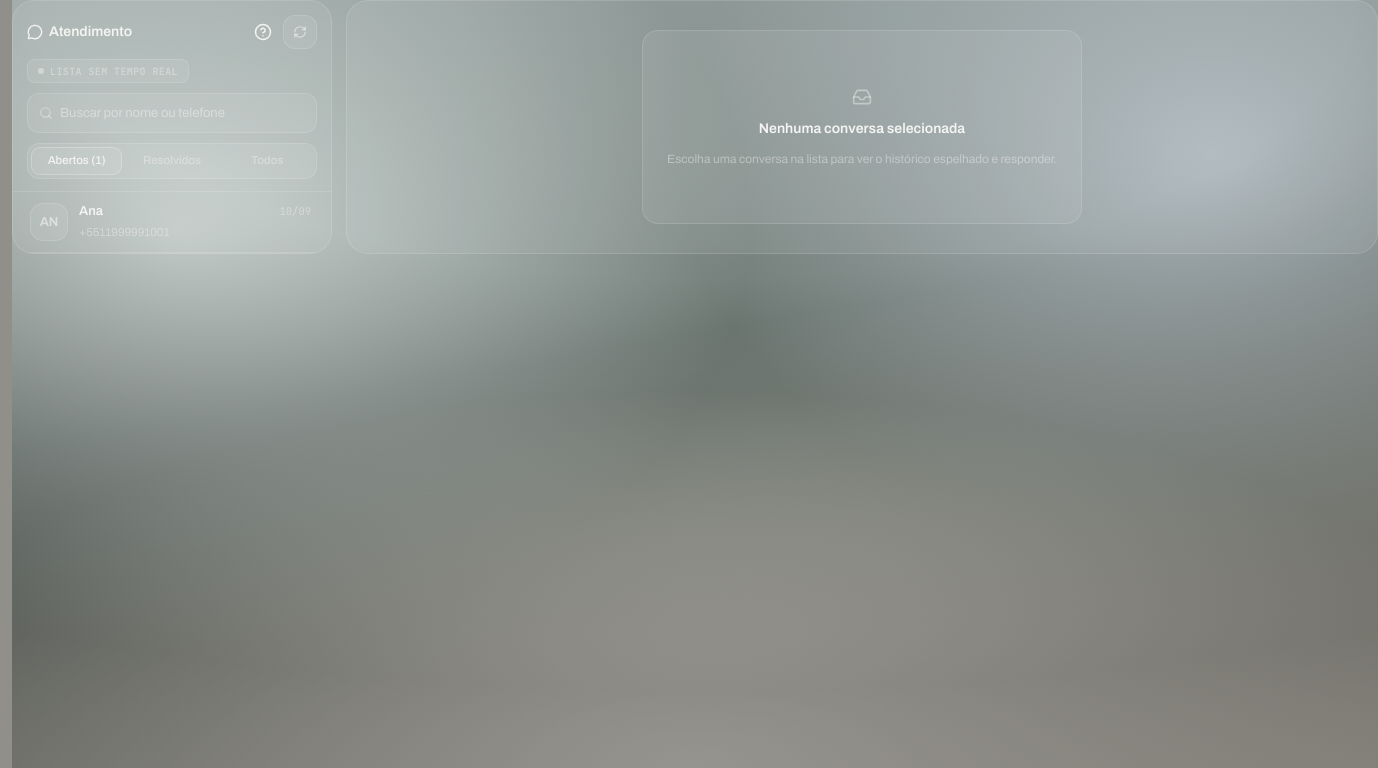
Test: MensageriaDesktop — envio › atendimento (MSG-009) › com automação ativa e permissão do servidor, devolver exige resumo, que vai como nota
Click the text "Ana".
click(91, 211)  # box x1=79 y1=203 x2=103 y2=220
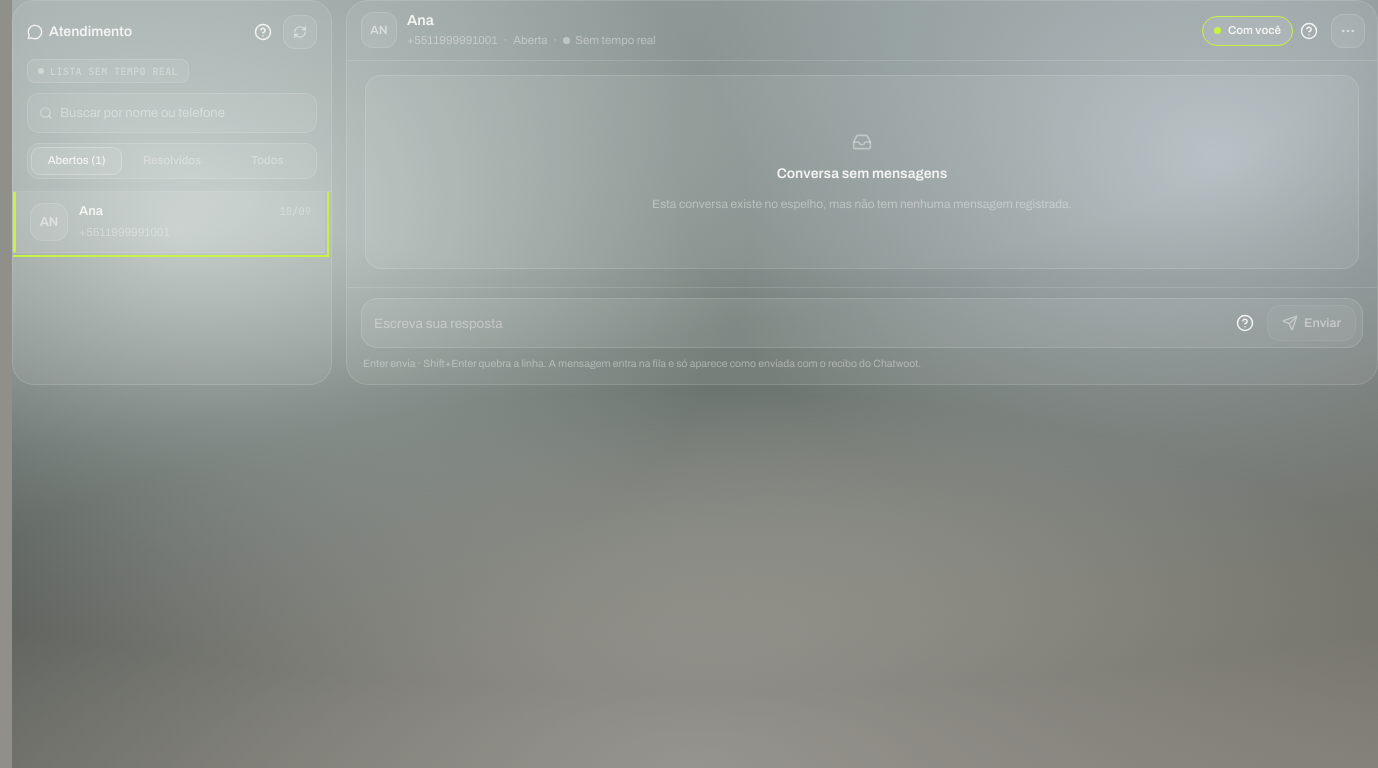
Expected: the text named "Quem atende" reads "Com você", x1=1228 y1=24 x2=1281 y2=36
Click the button named "Mais ações da conversa".
click(1348, 30)  # box x1=1331 y1=14 x2=1365 y2=48
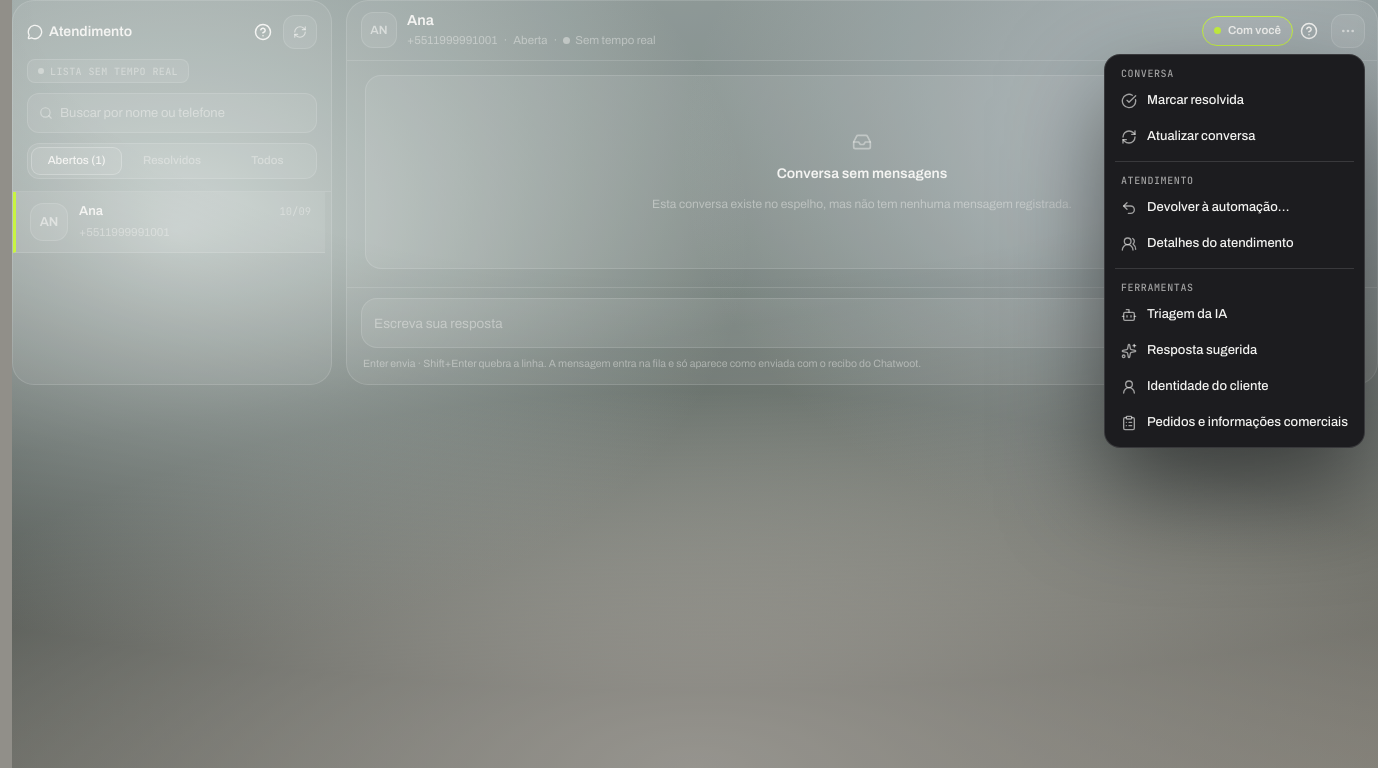
Click the menu item "Devolver à automação…".
click(1205, 208)  # box x1=1121 y1=200 x2=1290 y2=216
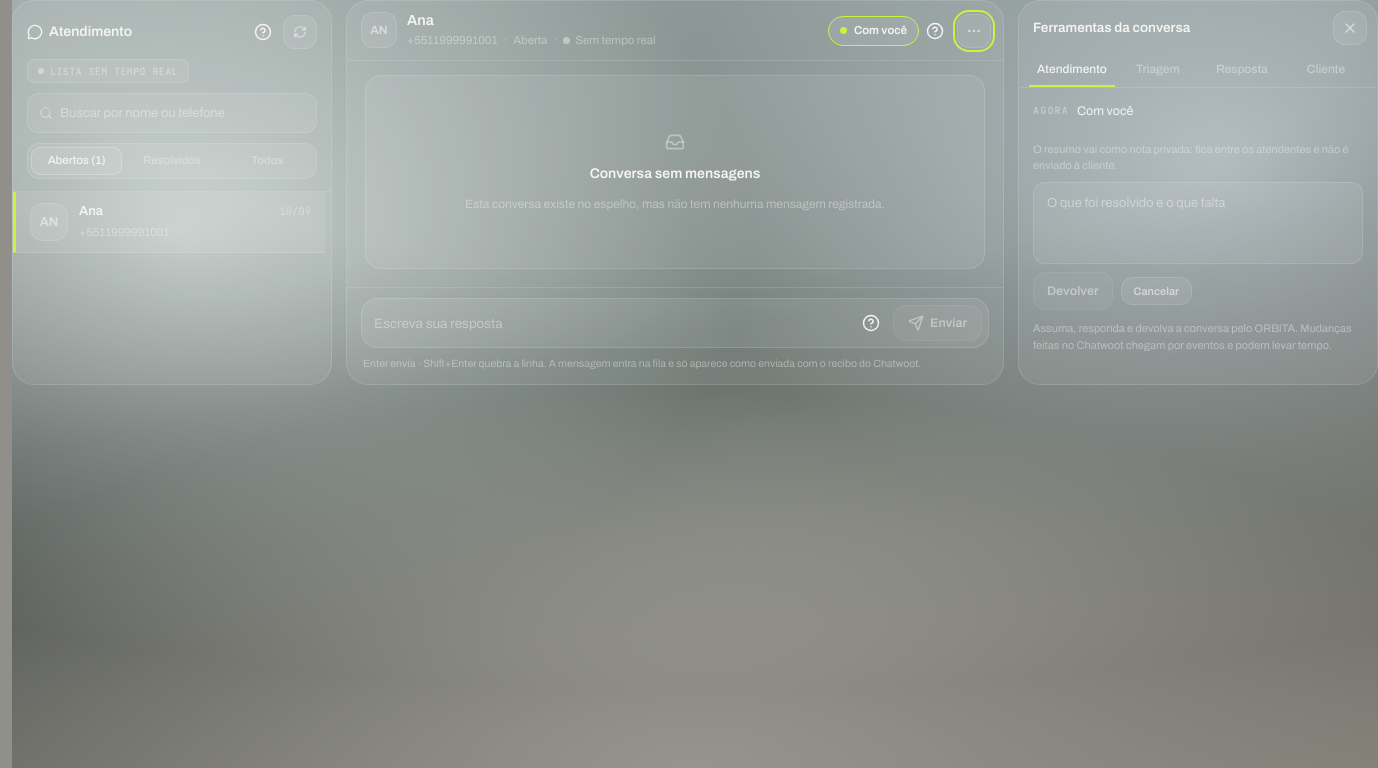
Expected: the button "Devolver" is disabled, x1=1033 y1=272 x2=1112 y2=310
Type "Pedido localizado" into the text box named "Resumo para a nota privada".
click(1198, 223); type("Pedido localizado")  # box x1=1033 y1=182 x2=1363 y2=264
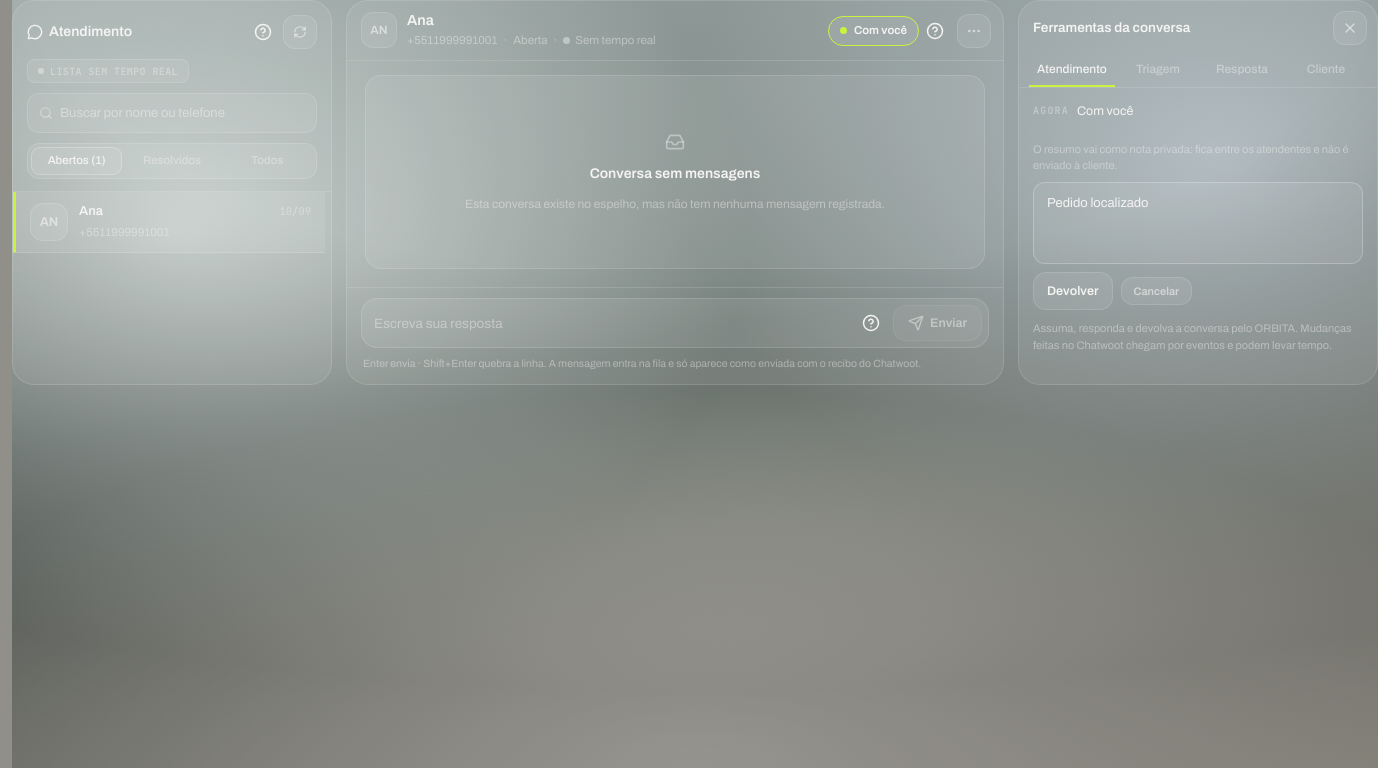
Click the button "Devolver".
click(1073, 291)  # box x1=1033 y1=272 x2=1112 y2=310
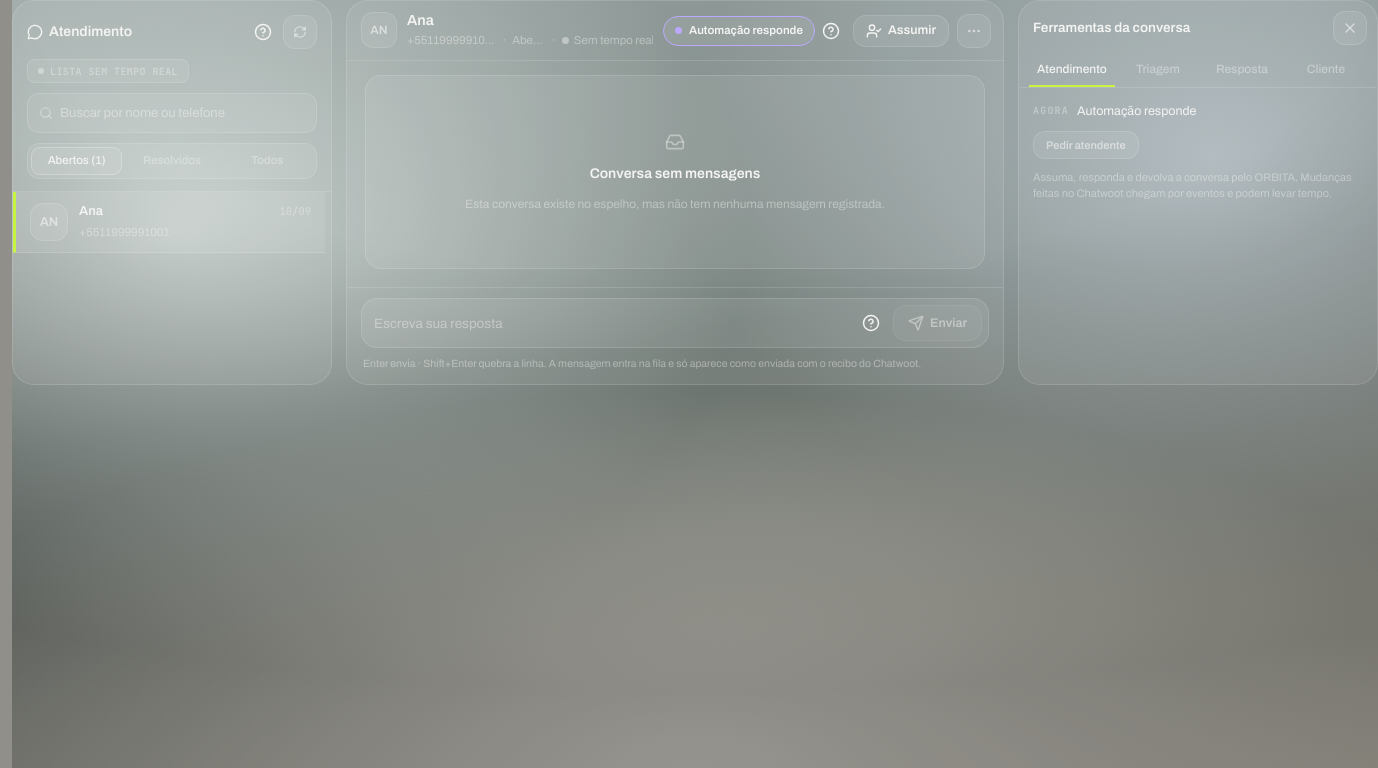
Expected: the text named "Quem atende" reads "Automação responde", x1=689 y1=24 x2=803 y2=36
Expected: the button "Pedir atendente" is shown, x1=1033 y1=131 x2=1139 y2=159
